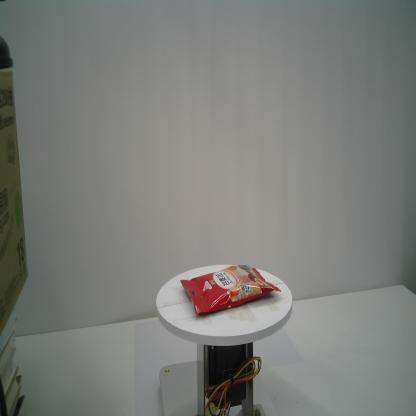Instant Drink: (179, 264, 283, 316)
